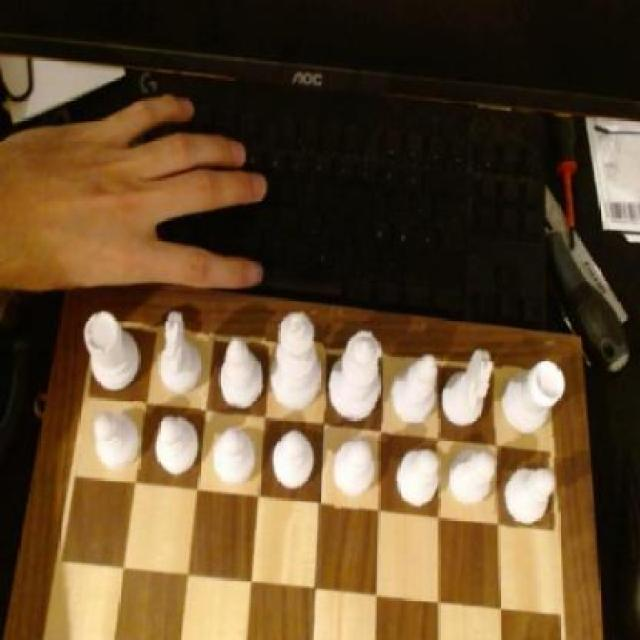black-rook: (388, 352, 443, 436), (216, 329, 266, 416)
white-bishop: (268, 312, 327, 416)
white-king: (157, 308, 210, 396), (443, 348, 498, 429)
white-knight: (89, 401, 146, 474), (505, 458, 560, 530), (334, 435, 384, 510), (449, 444, 500, 516), (210, 422, 262, 492), (397, 446, 446, 515), (155, 409, 201, 479), (272, 422, 317, 493)
white-pawn: (326, 329, 386, 429)
white-queen: (84, 310, 144, 398), (503, 358, 569, 437)
